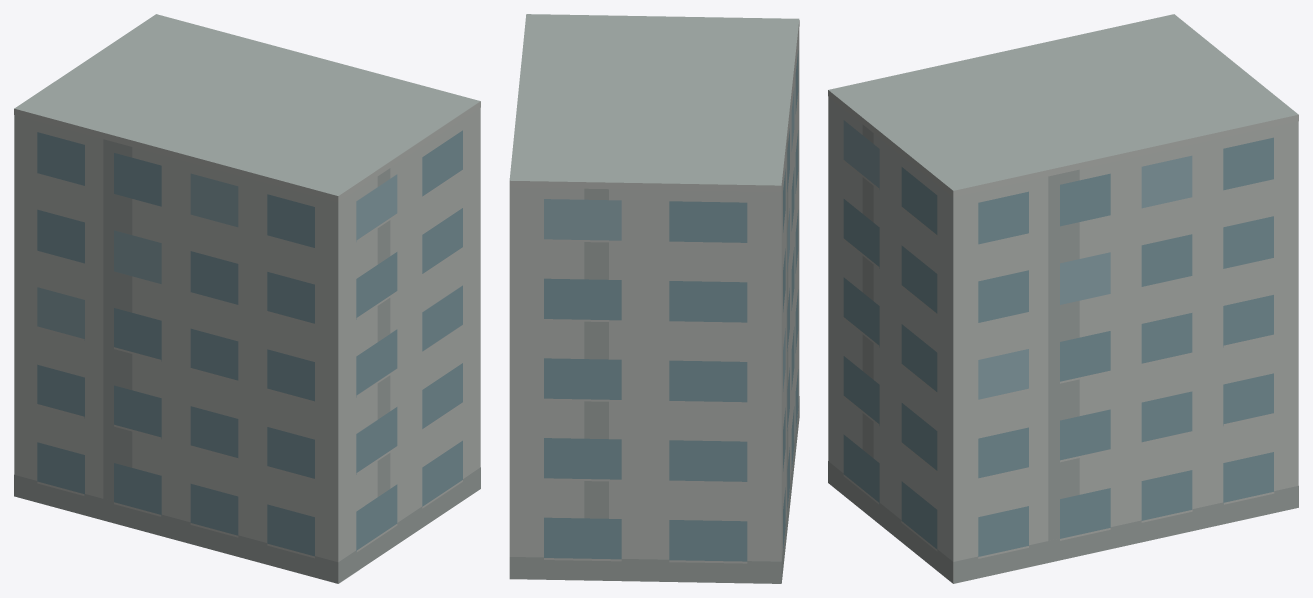
The model's file is survey-upis-33028758.glb.
The picture shows the model from 3 angles, left to right: view 1: azimuth 30°, elevation 25°; view 2: azimuth 150°, elevation 25°; view 3: azimuth 270°, elevation 25°; orthographic projection. The views are drawn at different scales.
Parts seen in each view (by area): view 1: survey-upis-33028758.tmp; view 2: survey-upis-33028758.tmp; view 3: survey-upis-33028758.tmp.
Part boxes in pixels (left/top/right/bottom): survey-upis-33028758.tmp: left=14, top=14, right=480, bottom=583; survey-upis-33028758.tmp: left=509, top=14, right=799, bottom=583; survey-upis-33028758.tmp: left=828, top=14, right=1298, bottom=583.
Size of the model in its own units: 14.1 by 14.6 by 15.85.
